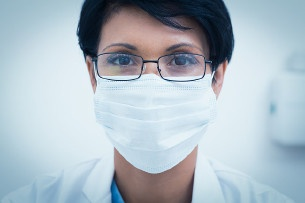Mask: (90, 35, 226, 171)
